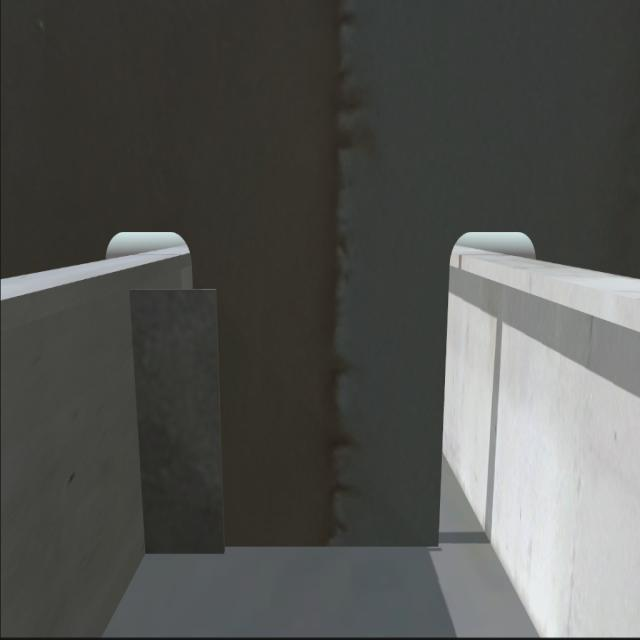fillet_yong_jeop_jang: (143, 534, 441, 564)
longi_yong_jeop_jang: (126, 283, 151, 556)
plate_CP01: (130, 286, 227, 556)
